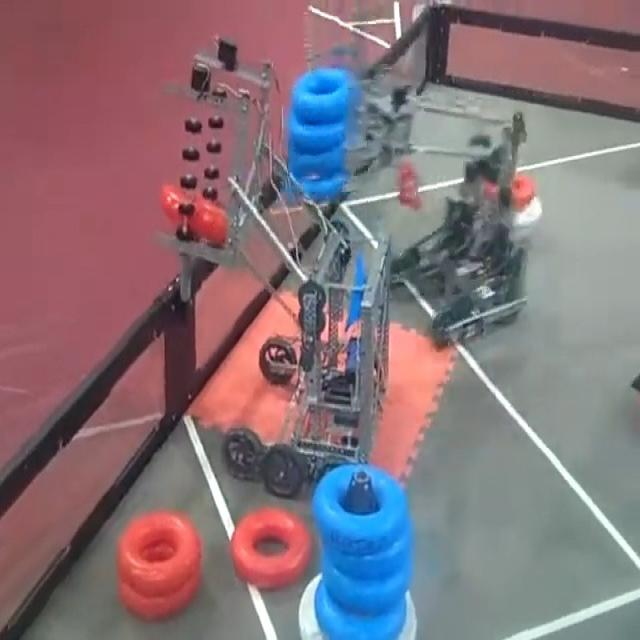Blue-Ring: (312, 465, 409, 555), (322, 553, 411, 614), (315, 580, 405, 639), (322, 525, 411, 578), (291, 68, 349, 124), (289, 113, 345, 154), (285, 148, 349, 178), (296, 175, 352, 203)
Red-Ring: (119, 513, 201, 596), (230, 507, 311, 589), (161, 185, 229, 246), (119, 574, 200, 620), (486, 174, 536, 209)
